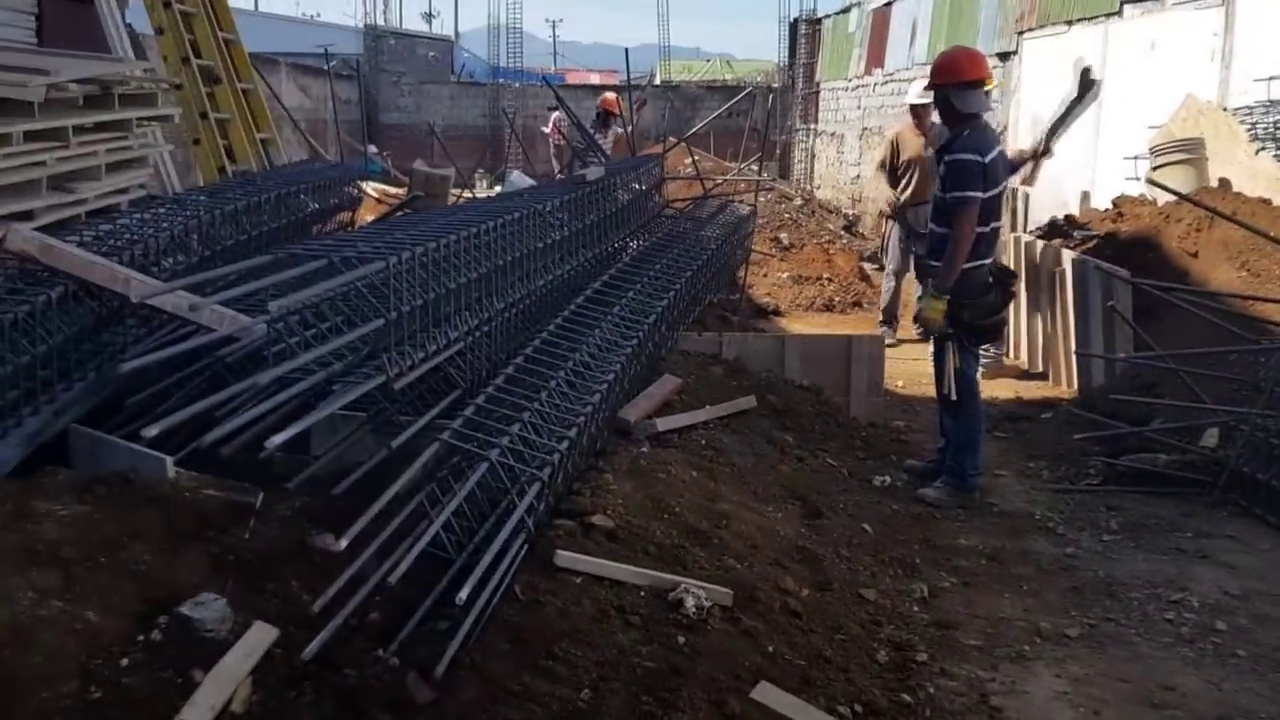helmet: (927, 45, 998, 90), (904, 78, 934, 106), (597, 92, 623, 118), (365, 143, 379, 155)
helmet-off: (546, 102, 560, 116)
helmet-on: (923, 46, 997, 138), (903, 78, 936, 135), (592, 92, 624, 131)
person: (908, 45, 1018, 510), (874, 75, 940, 334), (570, 92, 624, 174), (540, 103, 567, 180), (356, 143, 381, 176)
